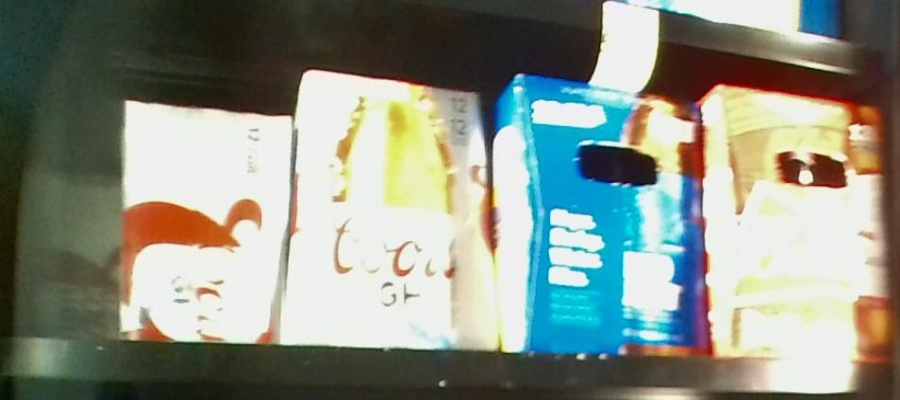bottle: (495, 73, 701, 354), (296, 71, 491, 350), (703, 84, 896, 359), (125, 101, 288, 335), (14, 170, 115, 341)
